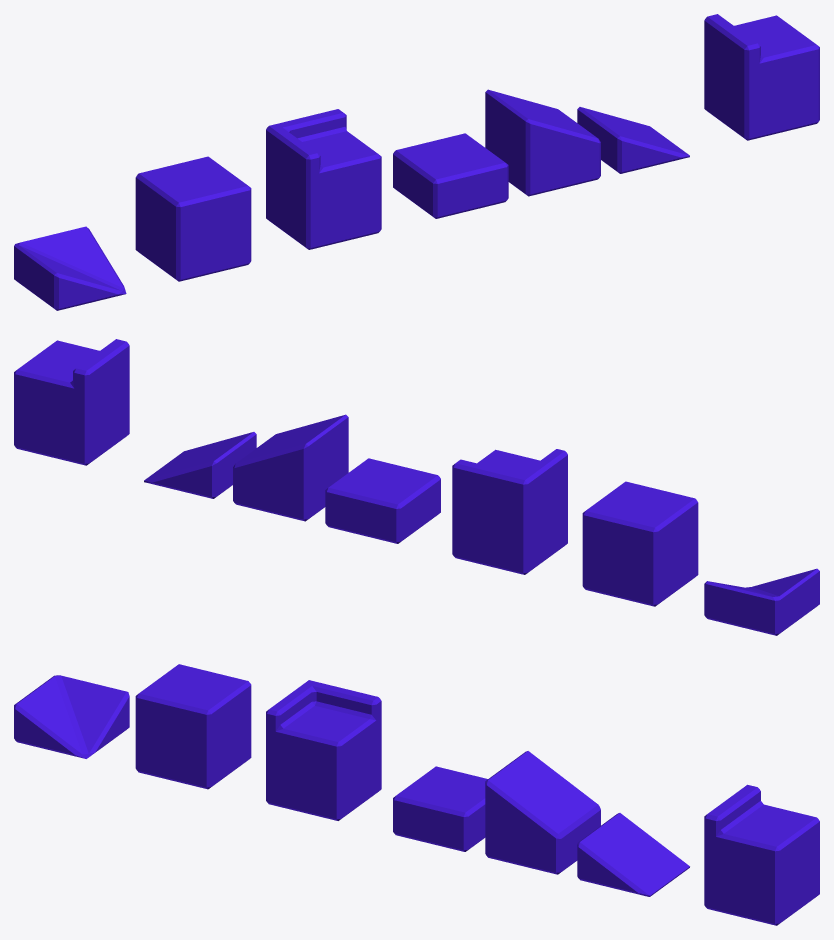
Rendered from World_Blocks.glb.
3 views of the same model, one above another, from view 1: azimuth 30°, elevation 25°; view 2: azimuth 150°, elevation 25°; view 3: azimuth 330°, elevation 25° (orthographic).
Parts seen in each view (by area): view 1: BlockWallCorner, BlockWall, Block, RampTop, BlockShort, RampLowerCorner, RampBottom; view 2: BlockWallCorner, BlockWall, Block, RampTop, BlockShort, RampLowerCorner, RampBottom; view 3: BlockWallCorner, BlockWall, Block, RampTop, RampLowerCorner, BlockShort, RampBottom.
Boxes of the visible parts, <box> form: BlockWallCorner: <box>266,109,381,249</box>; BlockWall: <box>704,14,819,140</box>; Block: <box>135,156,251,281</box>; RampTop: <box>485,89,600,196</box>; BlockShort: <box>393,133,508,218</box>; RampLowerCorner: <box>14,226,126,310</box>; RampBottom: <box>577,107,689,173</box>; BlockWallCorner: <box>452,449,567,574</box>; BlockWall: <box>14,339,129,465</box>; Block: <box>582,481,698,606</box>; RampTop: <box>233,414,348,521</box>; BlockShort: <box>325,458,440,543</box>; RampLowerCorner: <box>704,568,819,635</box>; RampBottom: <box>144,432,256,498</box>; BlockWallCorner: <box>266,680,381,820</box>; BlockWall: <box>704,784,819,925</box>; Block: <box>135,664,251,789</box>; RampTop: <box>485,751,600,874</box>; RampLowerCorner: <box>14,675,129,758</box>; BlockShort: <box>393,766,487,851</box>; RampBottom: <box>577,813,689,896</box>.
Size of what is drawn, in the model's own units: 20.28 by 2.46 by 2.
